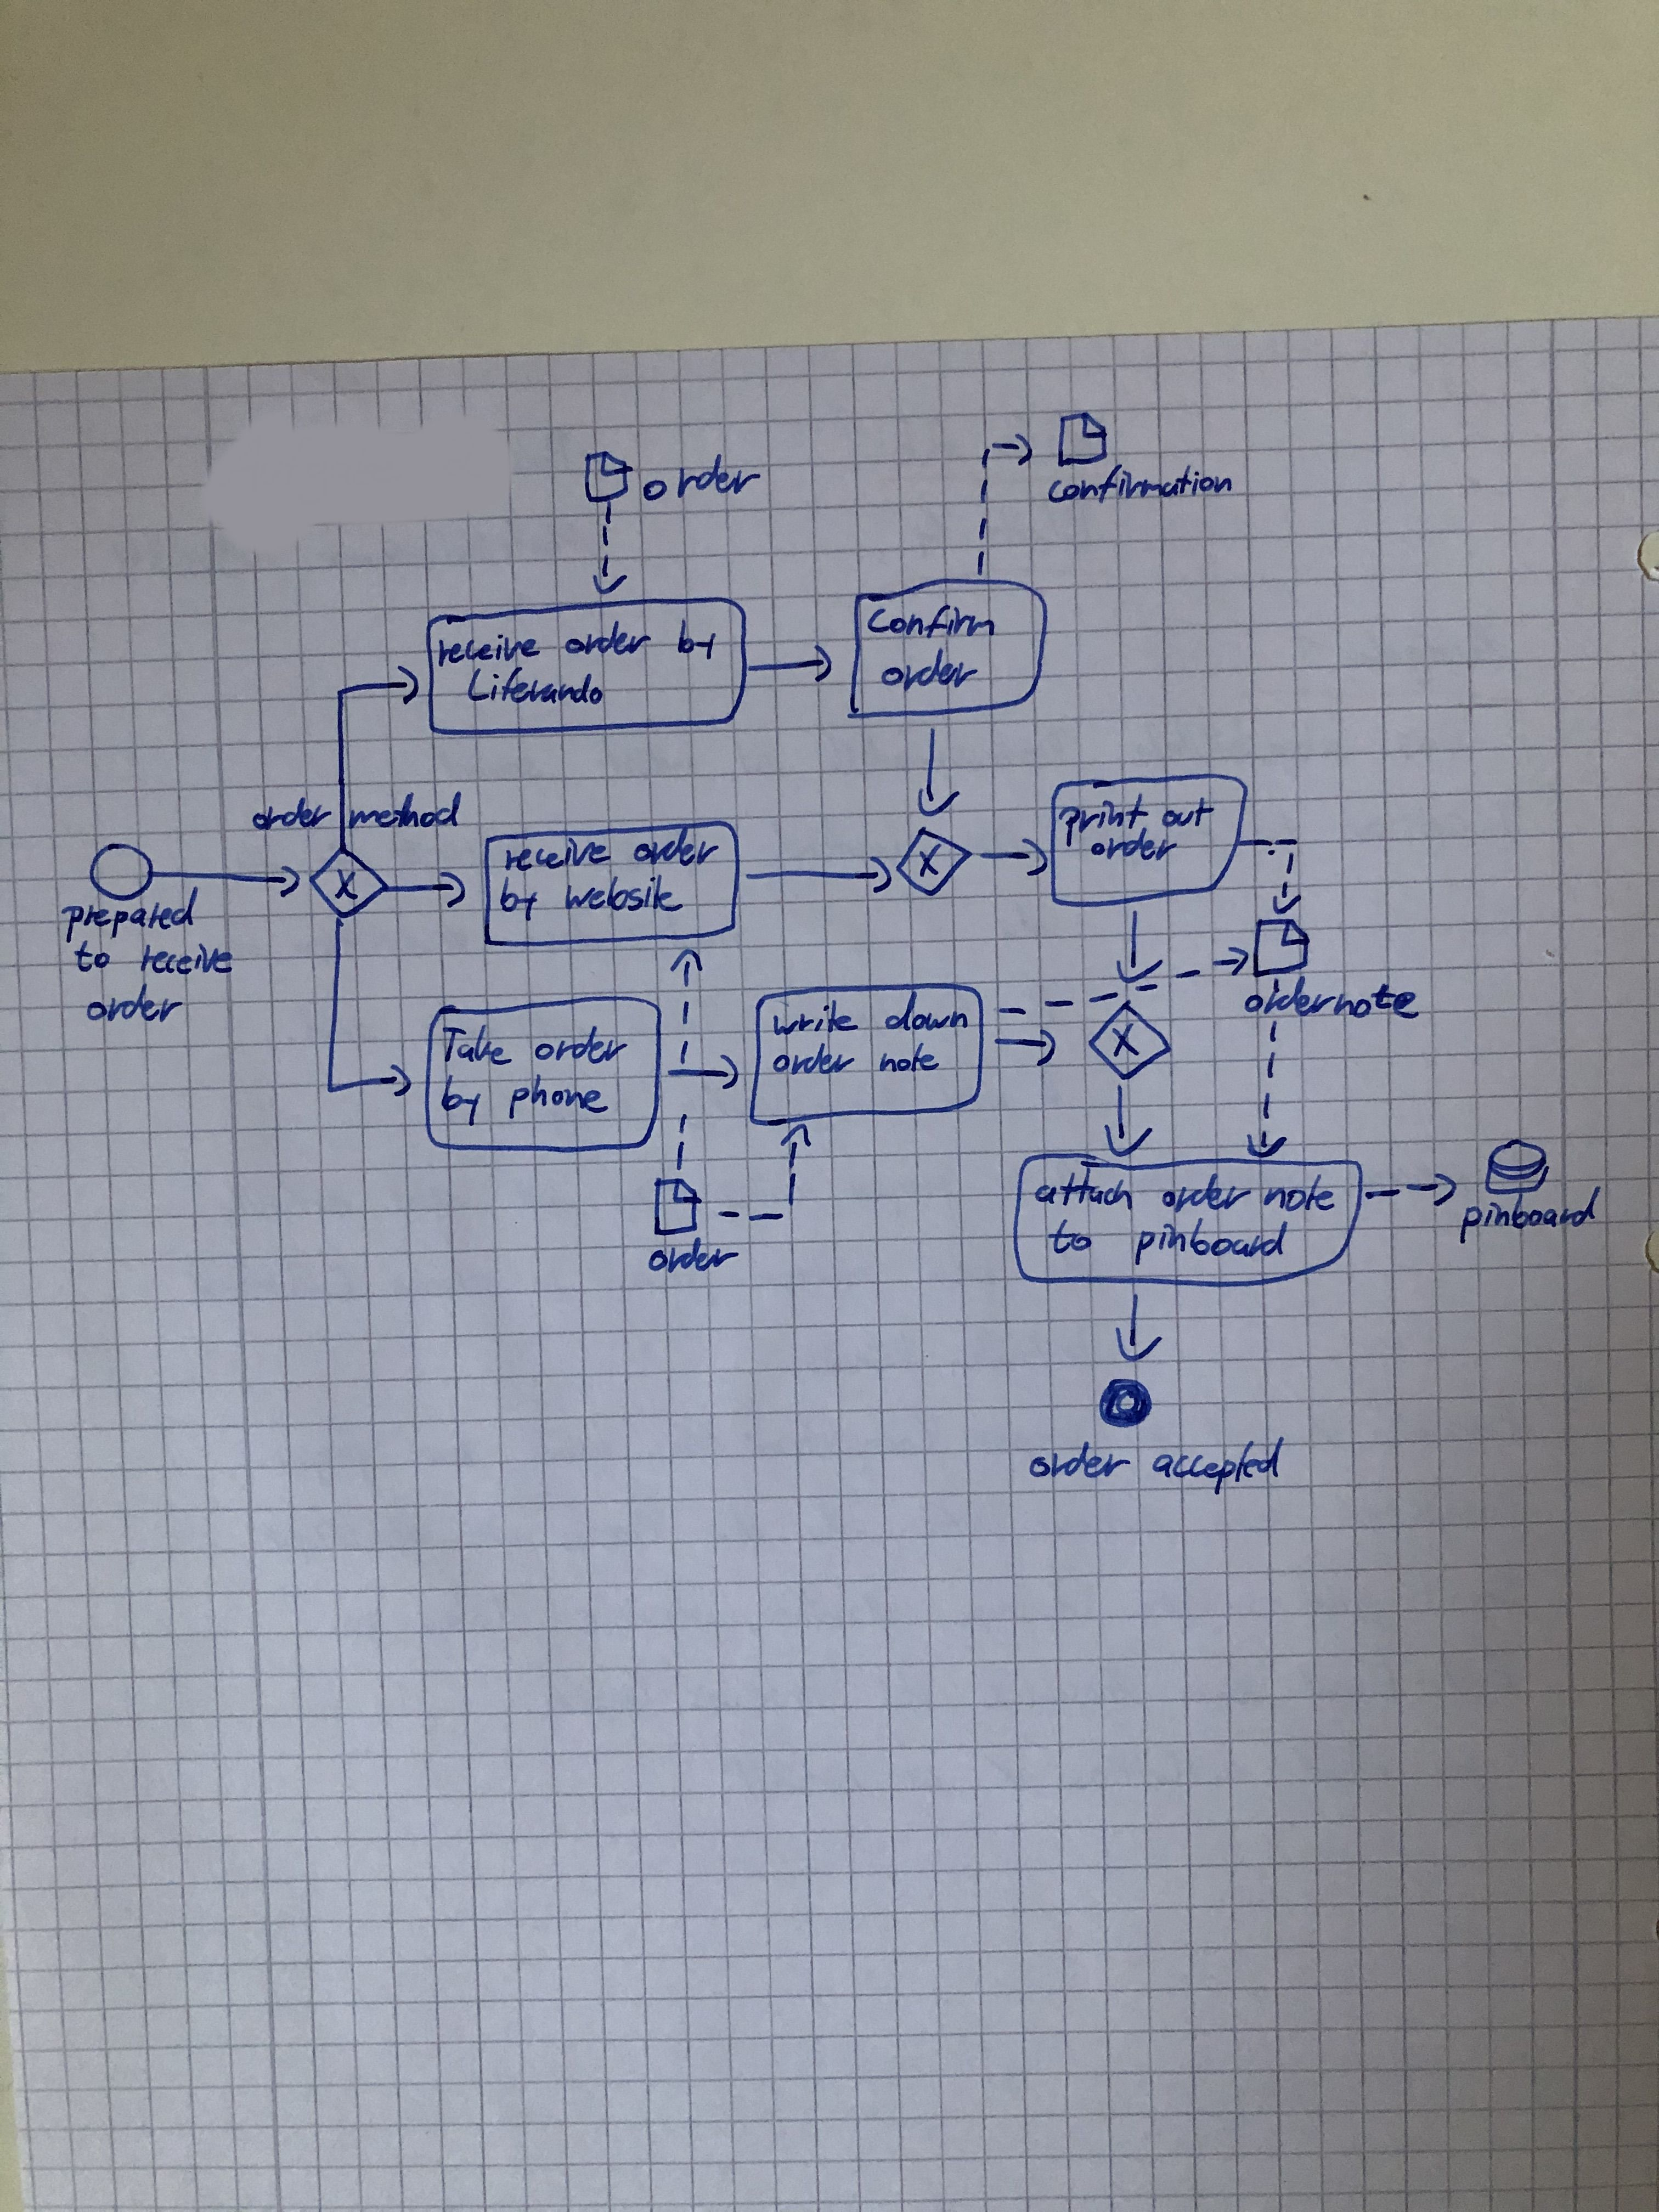Confirm: (864, 603, 999, 643)
Liferando: (462, 665, 606, 709)
Take: (439, 1022, 512, 1068)
accepted: (1150, 1437, 1290, 1494)
attach: (1026, 1170, 1140, 1216)
by: (436, 1071, 497, 1129), (495, 878, 542, 927), (673, 620, 718, 662)
confirmation: (1040, 463, 1236, 507)
down: (885, 993, 972, 1029)
method: (349, 787, 467, 833)
note: (1260, 1174, 1340, 1217), (877, 1043, 943, 1078)
order: (643, 453, 765, 503), (877, 648, 983, 697), (1026, 1440, 1134, 1487), (533, 1024, 631, 1069), (85, 986, 183, 1028), (1161, 1174, 1255, 1216), (561, 622, 657, 662), (633, 831, 723, 873), (647, 1238, 741, 1275), (249, 798, 338, 836), (1089, 829, 1183, 864)
ordernote: (1241, 977, 1425, 1021)
out: (1157, 794, 1215, 833)
over: (772, 1042, 856, 1080)
phone: (502, 1073, 608, 1120)
pinboard: (1134, 1217, 1297, 1263), (1450, 1205, 1605, 1251)
prepared: (56, 906, 200, 949)
print: (1051, 813, 1145, 852)
receive: (434, 625, 554, 665), (491, 838, 615, 874), (134, 942, 232, 979)
to: (1039, 1217, 1101, 1259), (73, 941, 113, 979)
website: (561, 874, 685, 920)
write: (772, 1000, 861, 1035)
